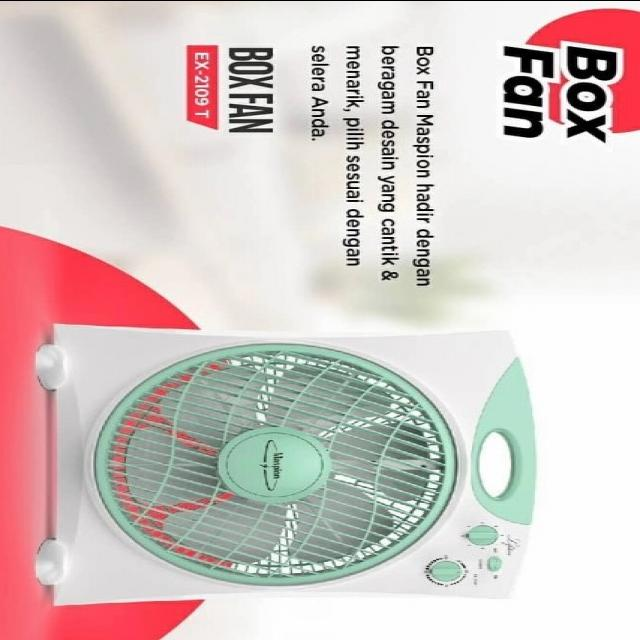fan: (35, 324, 539, 600)
